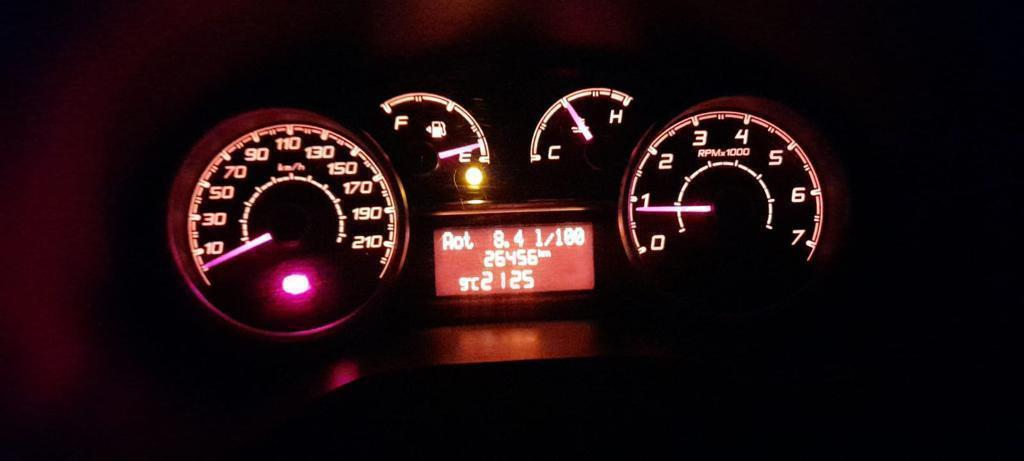,: (503, 241, 510, 248)
0: (563, 227, 574, 246), (574, 227, 585, 246)
1: (554, 227, 563, 246), (499, 270, 506, 289)
2: (480, 270, 493, 291), (508, 269, 521, 289), (483, 249, 494, 267)
4: (512, 228, 525, 248), (505, 250, 516, 265)
5: (521, 268, 534, 288), (516, 248, 527, 265)
6: (493, 249, 505, 267), (527, 248, 539, 265)
8: (492, 229, 504, 248)
9: (458, 277, 468, 291)
X: (463, 230, 474, 250), (442, 231, 453, 250), (534, 227, 543, 246), (453, 235, 464, 250), (543, 232, 554, 246), (470, 276, 480, 291), (542, 249, 551, 258), (537, 249, 543, 257)
odometer: (431, 219, 597, 300)
